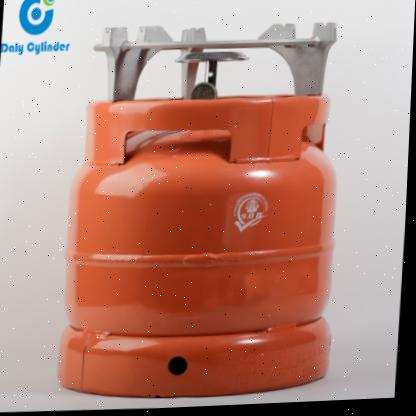gas-tank: (35, 76, 380, 414)
